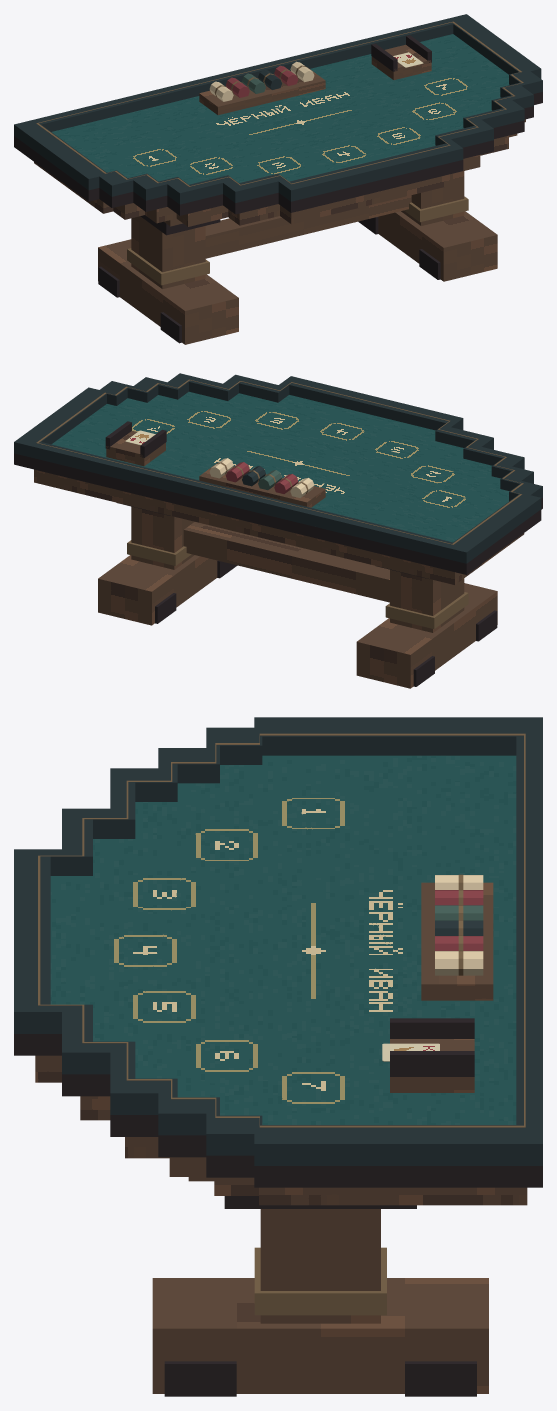
Rendered from black-ivan.glb.
3 renders of one model, top to bottom at view 1: azimuth 30°, elevation 25°; view 2: azimuth 150°, elevation 25°; view 3: azimuth 270°, elevation 25°, orthographic. The views are drawn at different scales.
Visible parts, largest first — view 1: Cloth playing surface, Armrest, Square outer rail, Trestle foot, Trestle foot.001, Timber apron, Stretcher, Square column, Dealer tray, Brass inset, Square column.001, Column collar (+7 smaller); view 2: Cloth playing surface, Armrest, Stretcher, Square outer rail, Trestle foot, Timber apron, Trestle foot.001, Square column, Square column.001, Brass inset, Dealer tray, Column collar (+6 smaller); view 3: Cloth playing surface, Armrest, Trestle foot.001, Square outer rail, Square column.001, Timber apron, Brass inset, Dealer tray, Column collar.001, Foot shoe.002, Foot shoe.003, Shoe cheek.001 (+4 smaller).
Part boxes in pixels (x1,y1,x2,y2): Cloth playing surface: (52, 34, 509, 184); Armrest: (14, 14, 542, 204); Square outer rail: (14, 92, 542, 215); Trestle foot: (98, 239, 238, 344); Trestle foot.001: (378, 211, 497, 281); Timber apron: (34, 119, 525, 226); Stretcher: (205, 195, 411, 258); Square column: (131, 216, 205, 289); Dealer tray: (199, 67, 325, 115); Brass inset: (36, 21, 523, 186); Square column.001: (401, 171, 464, 225); Column collar: (127, 248, 209, 285); Cloth playing surface: (51, 391, 509, 542); Armrest: (14, 373, 542, 563); Stretcher: (183, 522, 389, 602); Square outer rail: (14, 449, 542, 574); Trestle foot: (356, 583, 497, 688); Timber apron: (34, 469, 524, 584); Trestle foot.001: (98, 555, 217, 625); Square column: (390, 569, 464, 632); Square column.001: (131, 506, 194, 569); Brass inset: (36, 379, 523, 544); Dealer tray: (199, 462, 325, 507); Column collar: (385, 592, 468, 628); Cloth playing surface: (50, 755, 516, 1124); Armrest: (14, 717, 542, 1165); Trestle foot.001: (152, 1278, 488, 1393); Square outer rail: (14, 1034, 542, 1187); Square column.001: (260, 1209, 380, 1323); Timber apron: (35, 1055, 527, 1205); Brass inset: (38, 733, 525, 1127); Dealer tray: (421, 882, 493, 1000); Column collar.001: (254, 1247, 386, 1315); Foot shoe.002: (164, 1361, 236, 1396); Foot shoe.003: (405, 1361, 476, 1396); Shoe cheek.001: (390, 1051, 474, 1076).
Size of the model in its own units: 2.62 by 0.9613 by 1.38.
10 materials, 3 textured.
